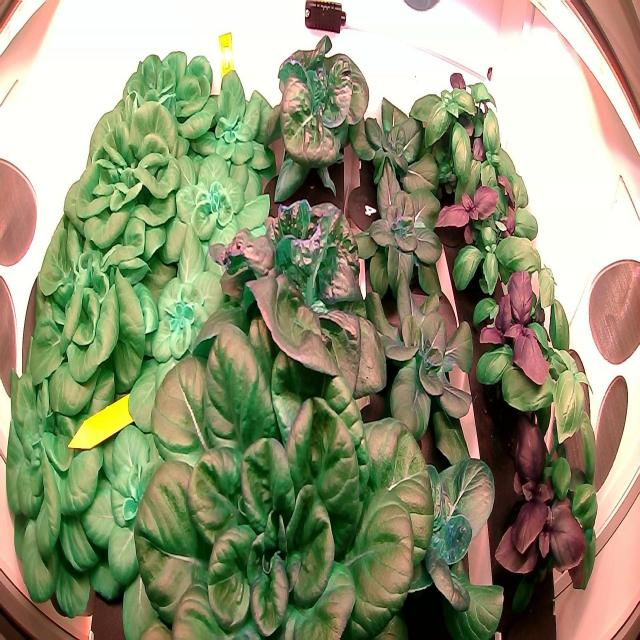Ready: (121, 282, 438, 640), (204, 157, 399, 426), (0, 346, 163, 623), (23, 196, 160, 412), (251, 15, 386, 218), (54, 85, 194, 267), (111, 34, 222, 164)
young: (366, 410, 517, 640), (80, 410, 200, 639), (123, 219, 255, 426), (360, 255, 490, 448), (348, 155, 462, 313), (156, 148, 275, 287), (339, 89, 450, 227), (184, 63, 284, 180)
